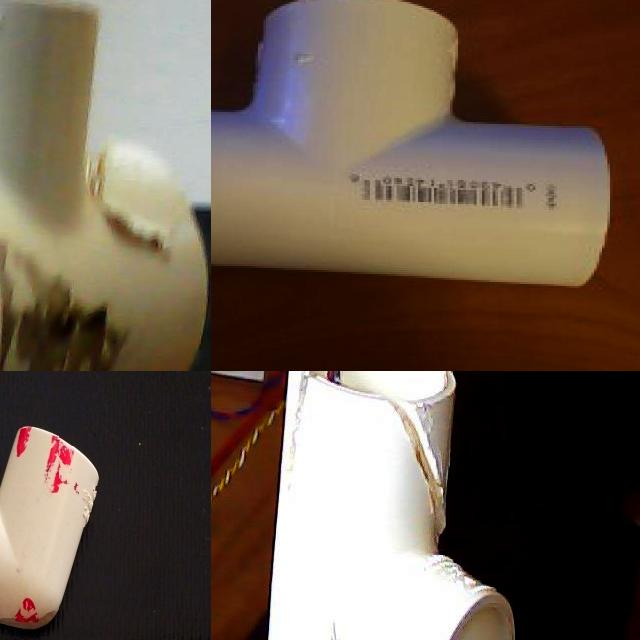Defective: (0, 224, 117, 371), (73, 136, 177, 254), (390, 378, 449, 568), (271, 585, 416, 640), (294, 371, 320, 524), (80, 529, 138, 579), (319, 371, 358, 432), (77, 491, 143, 527), (68, 446, 126, 486)
L Joint: (59, 371, 211, 610)
T Joint: (211, 0, 611, 286), (267, 371, 517, 640)
